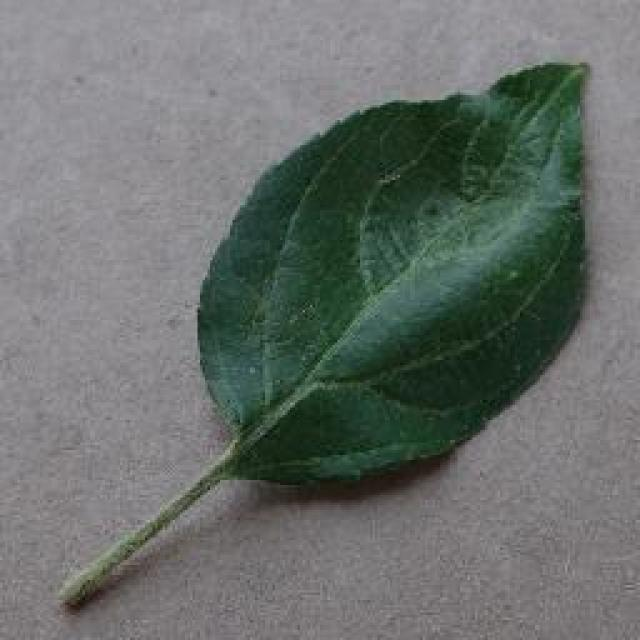apple healthy: (55, 55, 593, 607)
